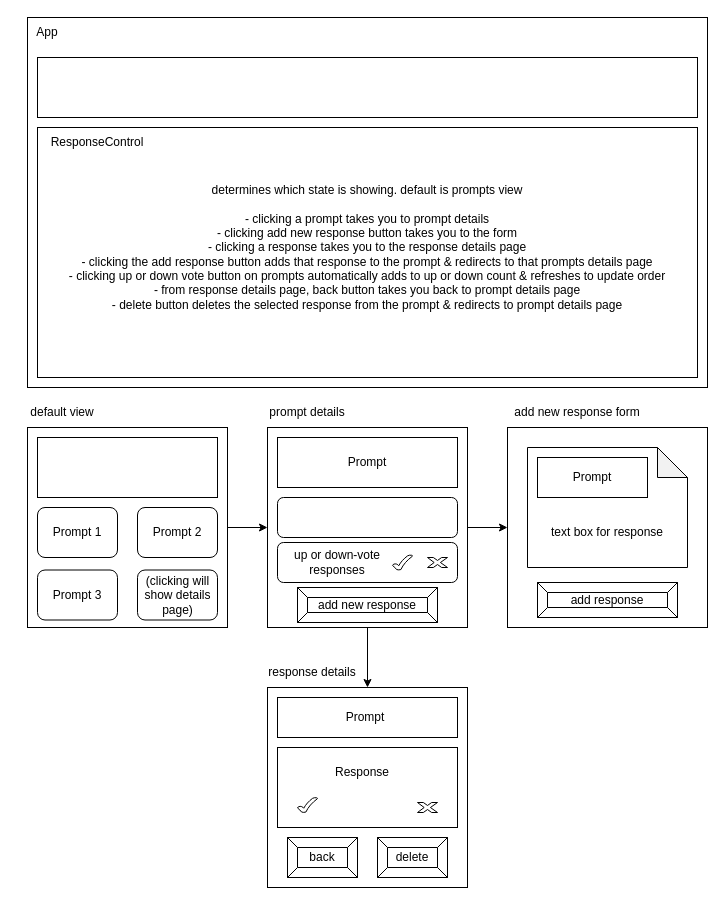
Some shapes in this 725 by 905 pixel diagram are drawn without their labels. The centre of each missing label's shape, as x and y in pixels:
Header: pixel 367 87
Prompts Header: pixel 127 467
responses in order by most-liked: pixel 367 517
